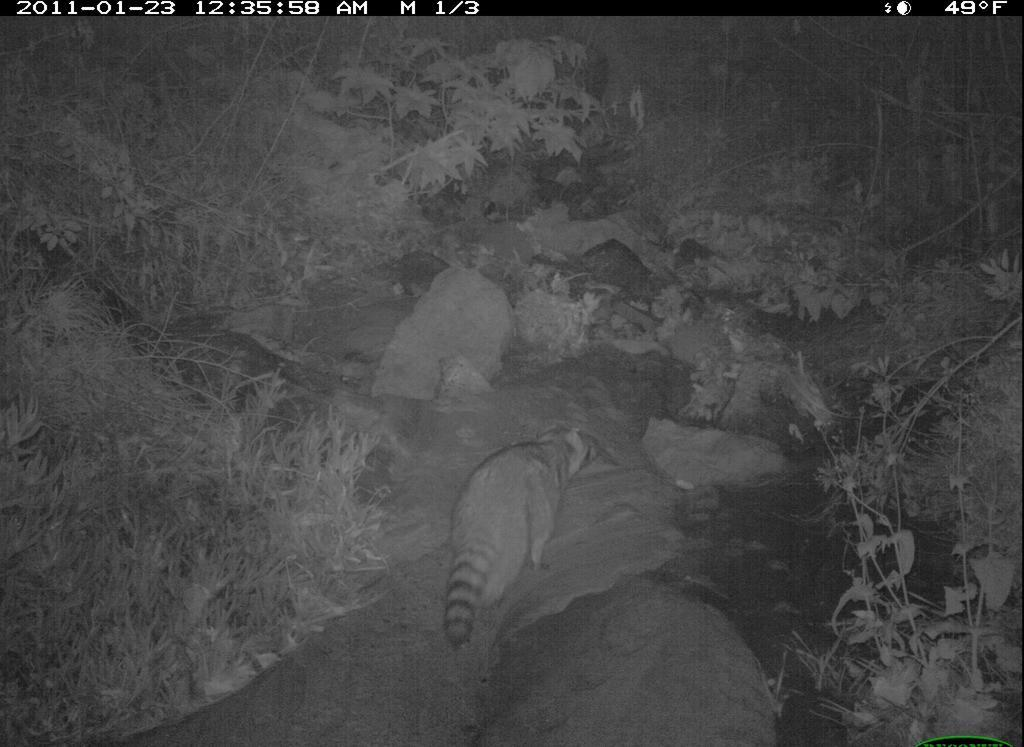raccoon: (435, 408, 603, 664)
